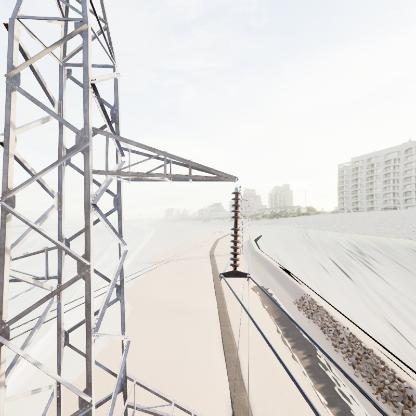insulator: (227, 189, 246, 273)
